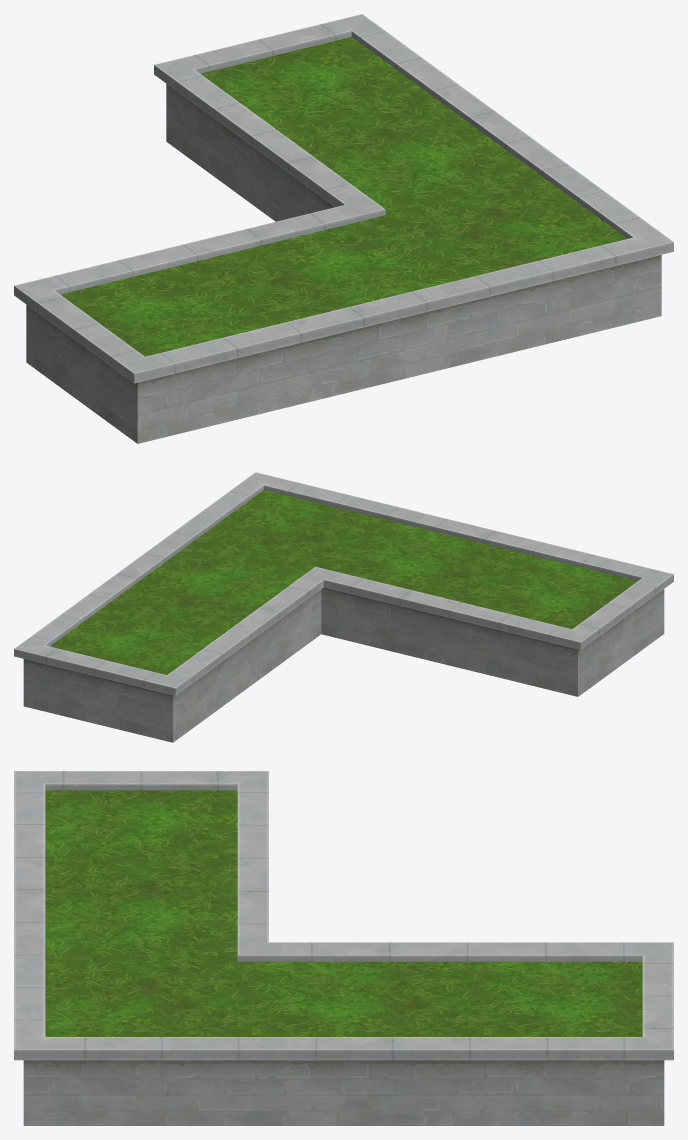
Rendered from flowerBed_high_05.fbx.
3 renders of one model, top to bottom at view 1: azimuth 30°, elevation 25°; view 2: azimuth 150°, elevation 25°; view 3: azimuth 270°, elevation 25°, orthographic. The views are drawn at different scales.
Visible parts, largest first — view 1: flowerBed_high_05; view 2: flowerBed_high_05; view 3: flowerBed_high_05.
Part boxes in pixels (x1=…): flowerBed_high_05: x1=14, y1=14, x2=673, y2=443; flowerBed_high_05: x1=14, y1=472, x2=673, y2=742; flowerBed_high_05: x1=14, y1=771, x2=673, y2=1125.
Size of the model in its own units: 428 by 57.19 by 428.
